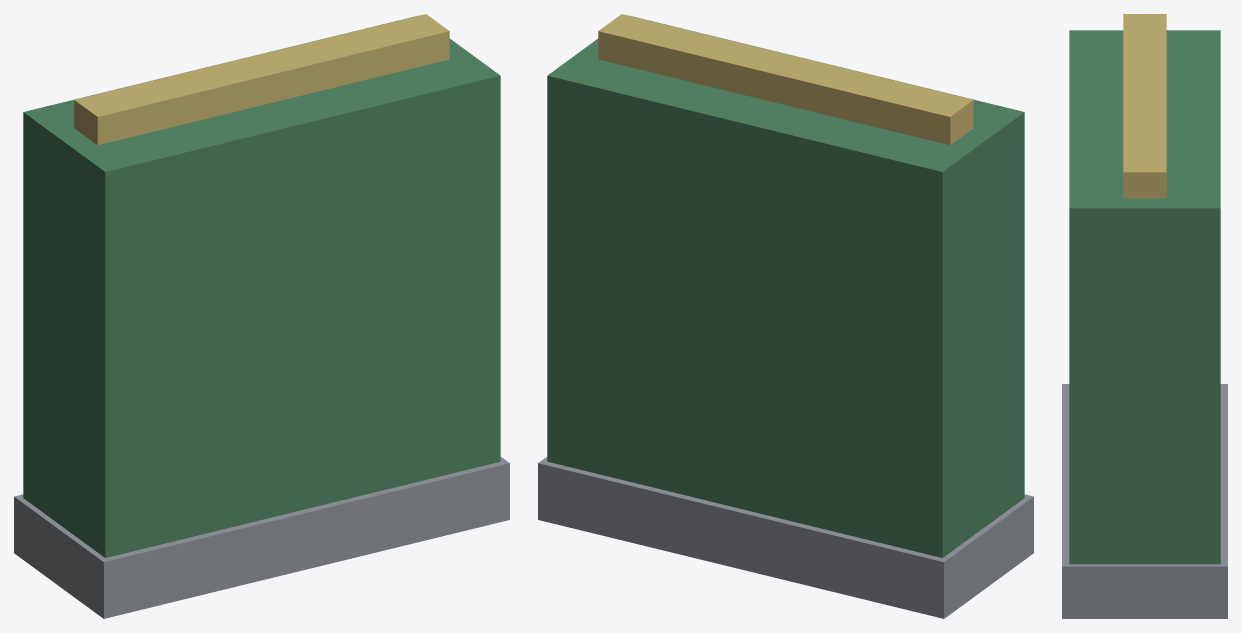
The model's file is prop_hedge_maze_module.glb.
The picture shows the model from 3 angles, left to right: view 1: azimuth 30°, elevation 25°; view 2: azimuth 150°, elevation 25°; view 3: azimuth 270°, elevation 25°; orthographic projection. The views are drawn at different scales.
Parts seen in each view (by area): view 1: prop_hedge_maze_module; view 2: prop_hedge_maze_module; view 3: prop_hedge_maze_module.
Boxes of the visible parts, left/top/right/bottom form: prop_hedge_maze_module: left=14, top=14, right=509, bottom=618; prop_hedge_maze_module: left=538, top=14, right=1033, bottom=618; prop_hedge_maze_module: left=1062, top=14, right=1227, bottom=618.
Size of the model in its own units: 3 by 3.33 by 1.15.
